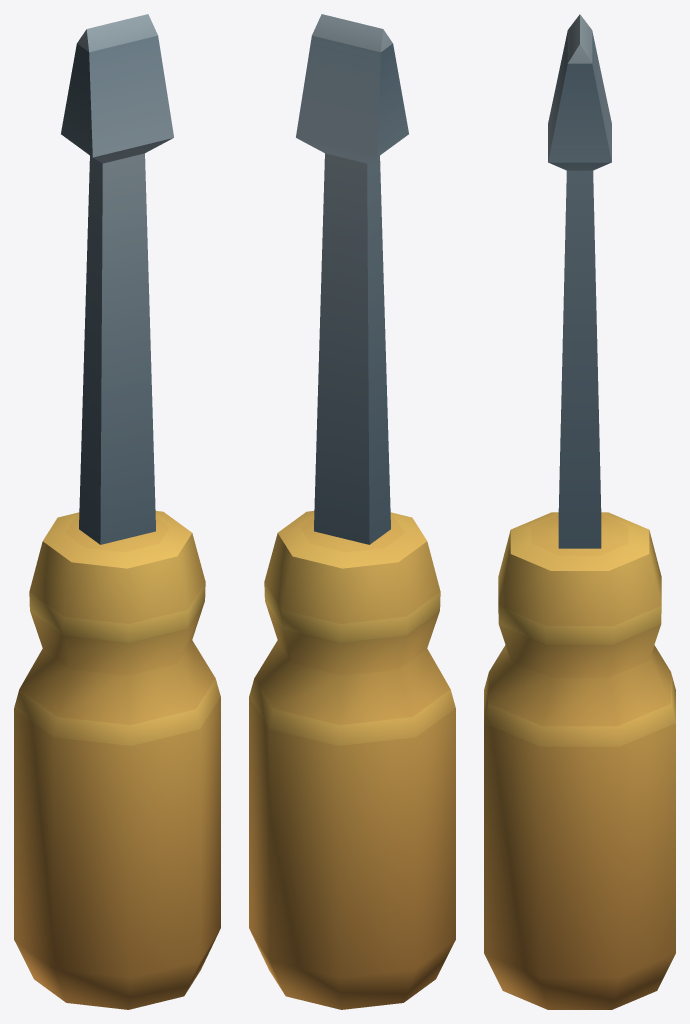
The model's file is screwdriver_A_long_color.obj.
The picture shows the model from 3 angles, left to right: view 1: azimuth 30°, elevation 25°; view 2: azimuth 150°, elevation 25°; view 3: azimuth 270°, elevation 25°; orthographic projection.
Visible parts, largest first — view 1: screwdriver_A_long_color; view 2: screwdriver_A_long_color; view 3: screwdriver_A_long_color.
Part boxes in pixels (left/top/right/bottom): screwdriver_A_long_color: left=14, top=14, right=220, bottom=1009; screwdriver_A_long_color: left=249, top=14, right=455, bottom=1009; screwdriver_A_long_color: left=484, top=14, right=675, bottom=1009.
Size of the model in its own units: 0.1513 by 0.8434 by 0.1513.
1 material, 1 textured.
